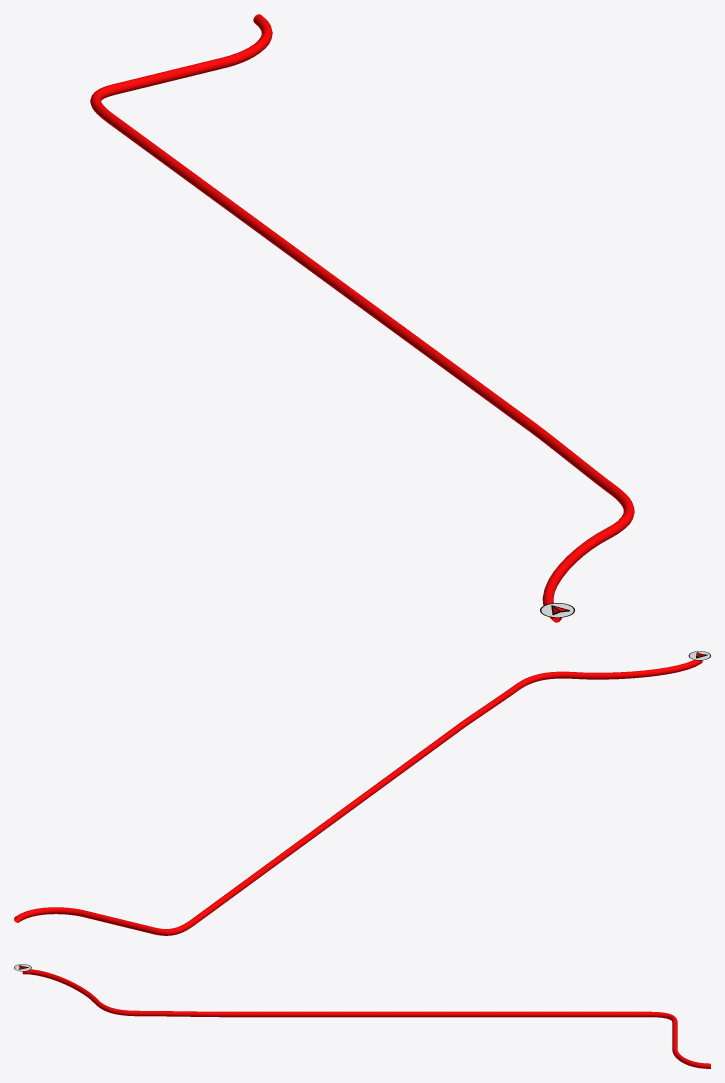
File: route_b3008590-b32c-4e8c-92c8-29376412f8e7_de_single.glb
3 renders of one model, top to bottom at view 1: azimuth 30°, elevation 25°; view 2: azimuth 150°, elevation 25°; view 3: azimuth 270°, elevation 25°, orthographic. The views are drawn at different scales.
Parts seen in each view (by area): view 1: B7, Abteil 1; view 2: B7, Abteil 1; view 3: B7, Abteil 1.
Part boxes in pixels (bbox=[...]): B7, Abteil 1: bbox=[90, 14, 634, 622]; B7, Abteil 1: bbox=[14, 660, 702, 935]; B7, Abteil 1: bbox=[22, 969, 710, 1068].
Bounding box in the file's own units: 3.47 × 0.1062 × 10.25.
